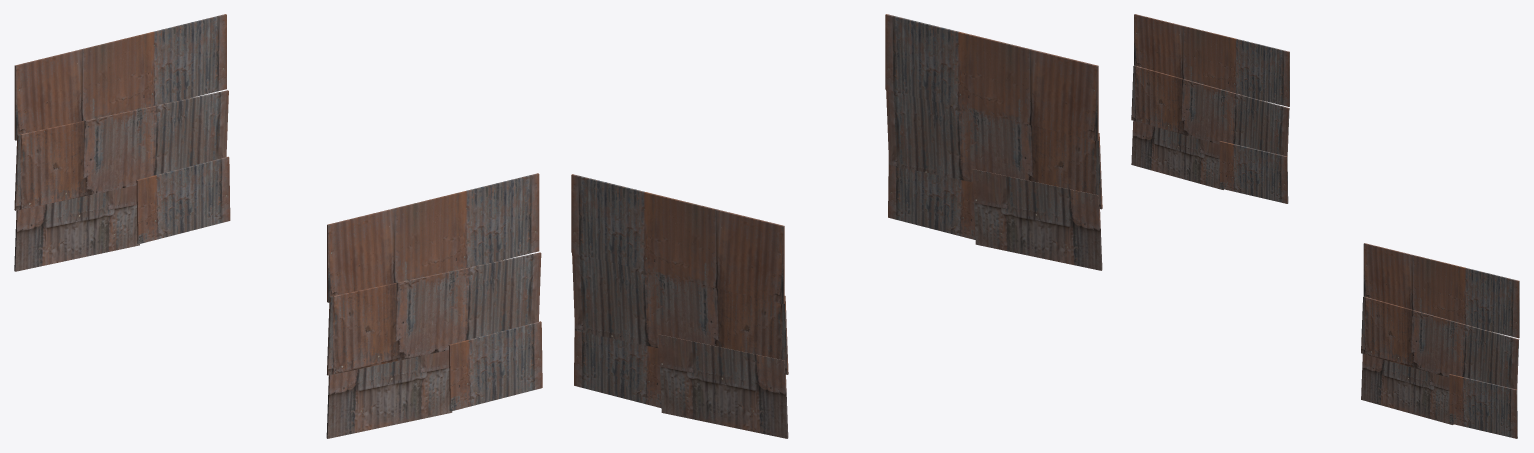
The model's file is SM_NeoLD_01_Block_Toles_00.fbx.
The picture shows the model from 3 angles, left to right: view 1: azimuth 30°, elevation 25°; view 2: azimuth 150°, elevation 25°; view 3: azimuth 330°, elevation 25°; orthographic projection. The views are drawn at different scales.
Visible parts, largest first — view 1: SM_NeoLD_01_Block_Toles_00; view 2: SM_NeoLD_01_Block_Toles_00; view 3: SM_NeoLD_01_Block_Toles_00.
Part boxes in pixels (x1=…): SM_NeoLD_01_Block_Toles_00: x1=14, y1=14, x2=542, y2=438; SM_NeoLD_01_Block_Toles_00: x1=571, y1=14, x2=1102, y2=438; SM_NeoLD_01_Block_Toles_00: x1=1131, y1=14, x2=1519, y2=438.
Size of the model in its own units: 1275 by 1045 by 16.87.
